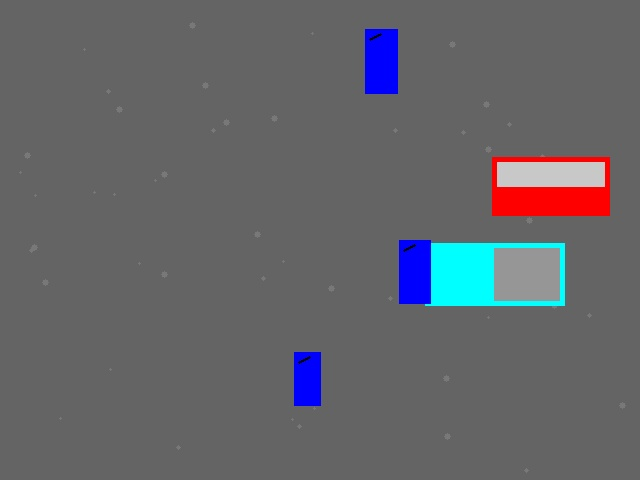car: (492, 157, 609, 215)
motorcycle: (365, 29, 397, 93), (399, 240, 430, 303), (294, 352, 320, 405)
truck: (425, 243, 564, 305)
